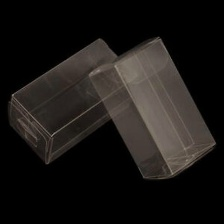plastic_box: (82, 26, 222, 187), (2, 32, 143, 171)
